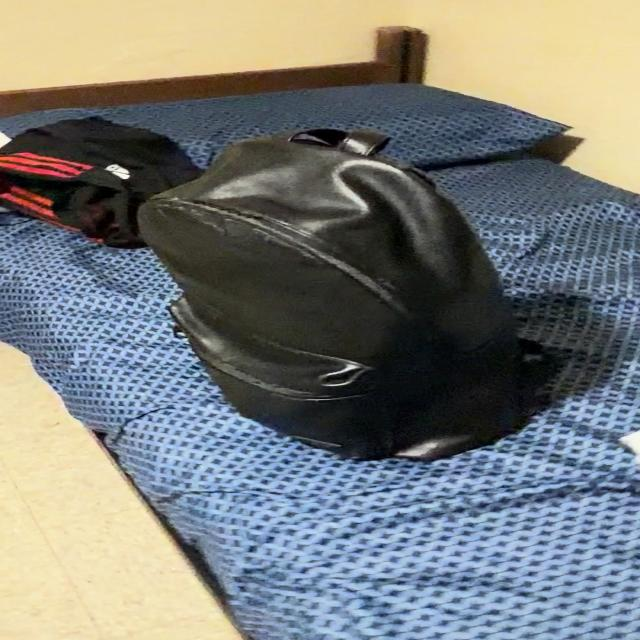backpack: (139, 130, 522, 459), (0, 116, 202, 248)
